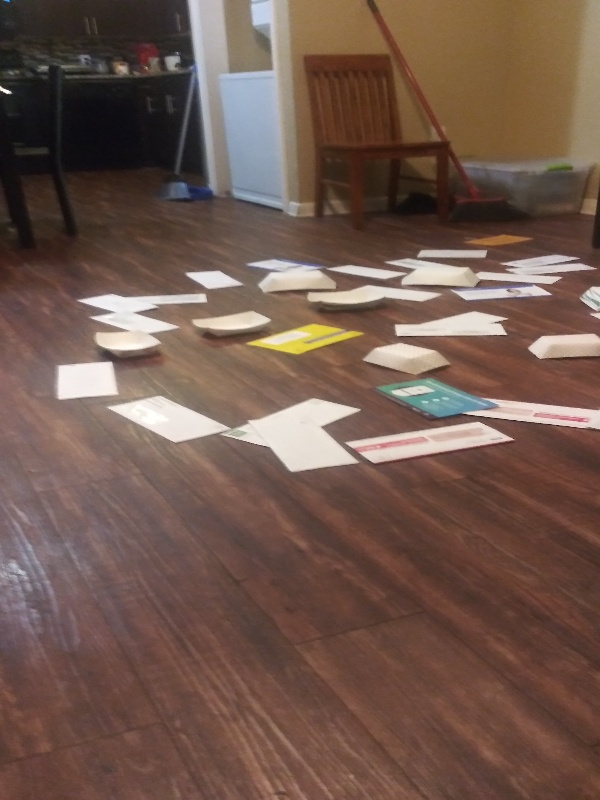plate: (356, 341, 454, 380), (189, 308, 274, 342), (89, 325, 166, 362), (254, 268, 343, 297), (399, 264, 484, 291), (301, 283, 389, 309), (524, 333, 600, 363), (576, 283, 600, 311)
